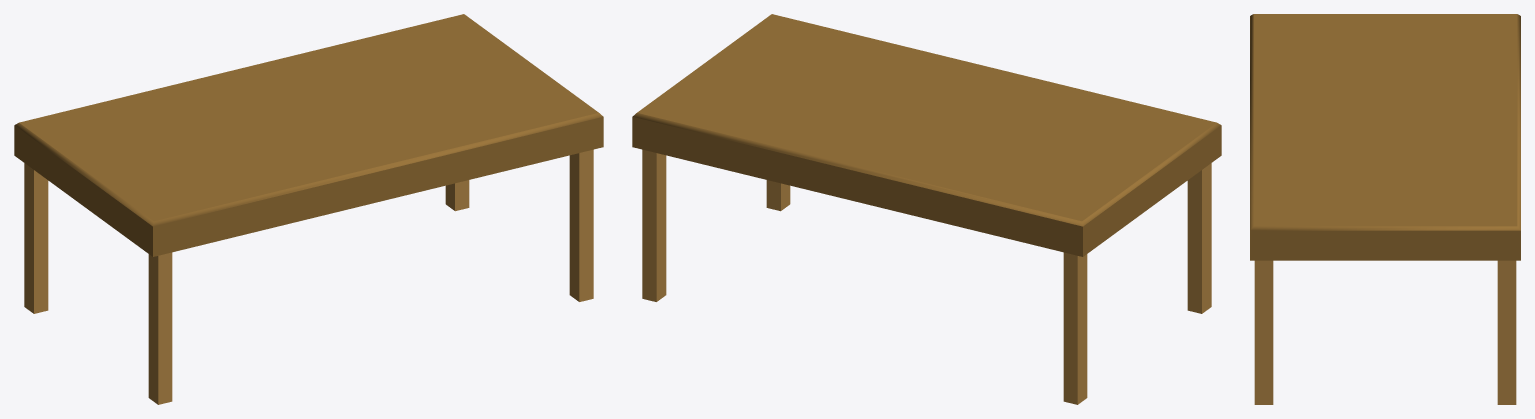
The model's file is Masa.fbx.
3 views of the same model, side by side, from view 1: azimuth 30°, elevation 25°; view 2: azimuth 150°, elevation 25°; view 3: azimuth 270°, elevation 25° (orthographic). The views are drawn at different scales.
Parts seen in each view (by area): view 1: Cube; view 2: Cube; view 3: Cube.
Boxes of the visible parts, x1,y1,x2,y2 form: Cube: (14,14,603,404); Cube: (632,14,1221,404); Cube: (1250,14,1520,404).
Bounding box in the file's own units: 375 × 147 × 200.
